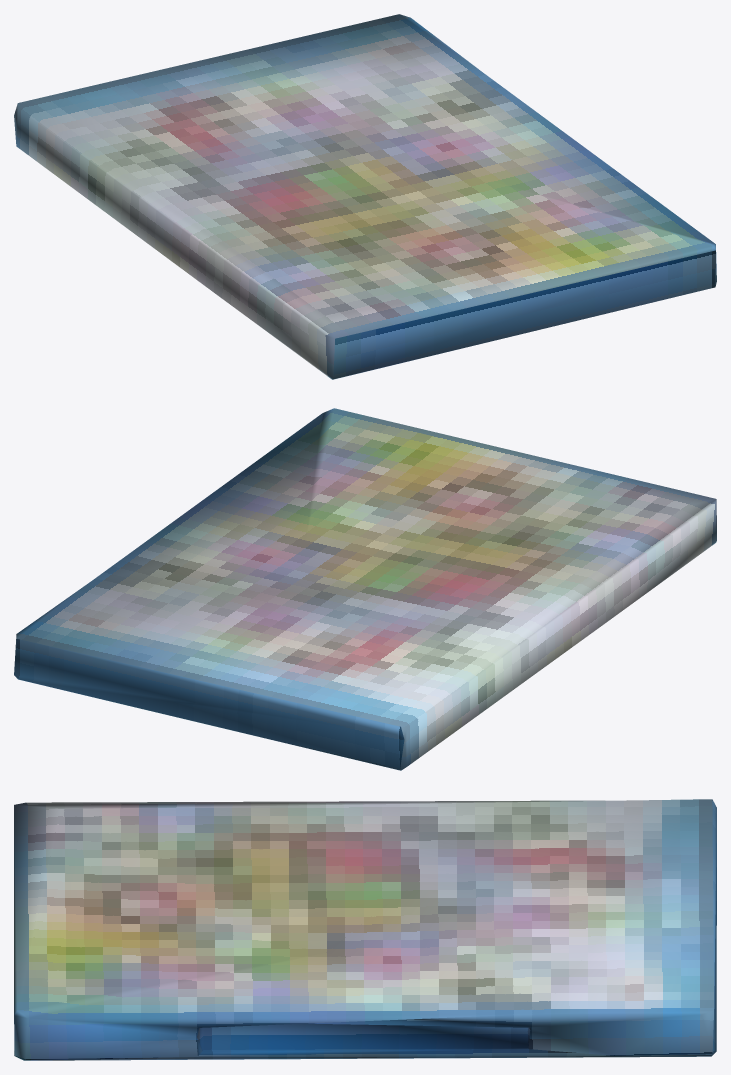
File: Super_Mario_3D_World_Wii_U_Game-low.glb
The picture shows the model from 3 angles, top to bottom: view 1: azimuth 30°, elevation 25°; view 2: azimuth 150°, elevation 25°; view 3: azimuth 270°, elevation 25°; orthographic projection. The views are drawn at different scales.
Parts seen in each view (by area): view 1: Super_Mario_3D_World_Wii_U_Game; view 2: Super_Mario_3D_World_Wii_U_Game; view 3: Super_Mario_3D_World_Wii_U_Game.
Boxes of the visible parts, box(x1,y1,x2,y2) form: Super_Mario_3D_World_Wii_U_Game: box(14, 14, 716, 379); Super_Mario_3D_World_Wii_U_Game: box(14, 408, 716, 770); Super_Mario_3D_World_Wii_U_Game: box(14, 799, 716, 1060).
Size of the model in its own units: 0.1358 by 0.0162 by 0.1902.
Materials: 1 (1 with a texture image).
